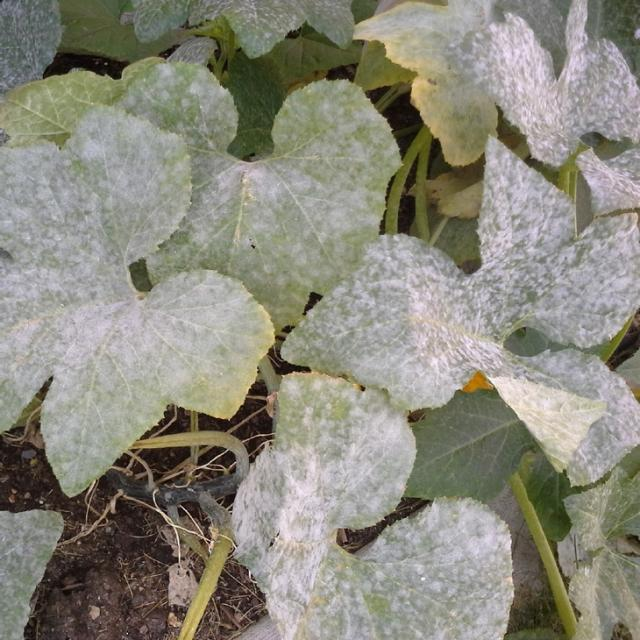Powdery Mildew: (2, 2, 637, 637), (230, 371, 514, 638)
